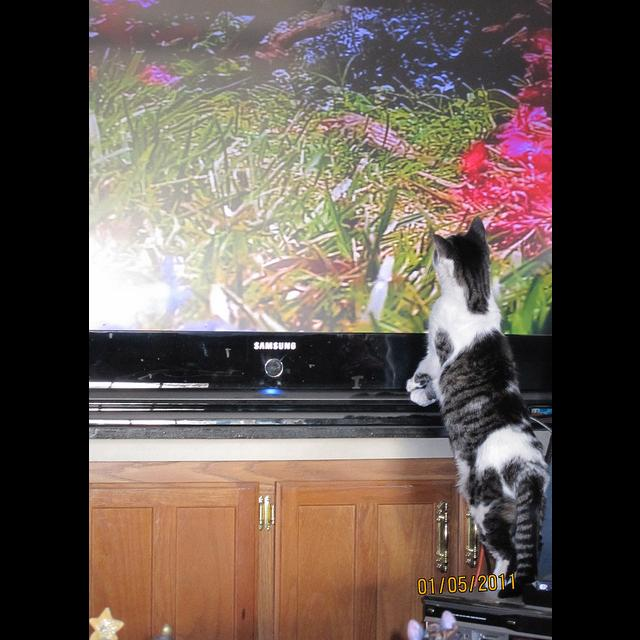Flat-Panel-TV: (89, 3, 551, 403)
